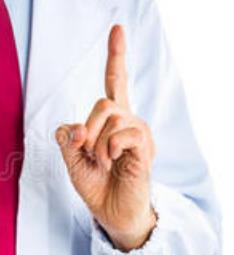up: (53, 23, 154, 238)
